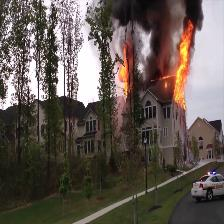fire: (174, 34, 195, 106)
smoke: (108, 2, 181, 36), (148, 39, 167, 78), (185, 1, 204, 20)
